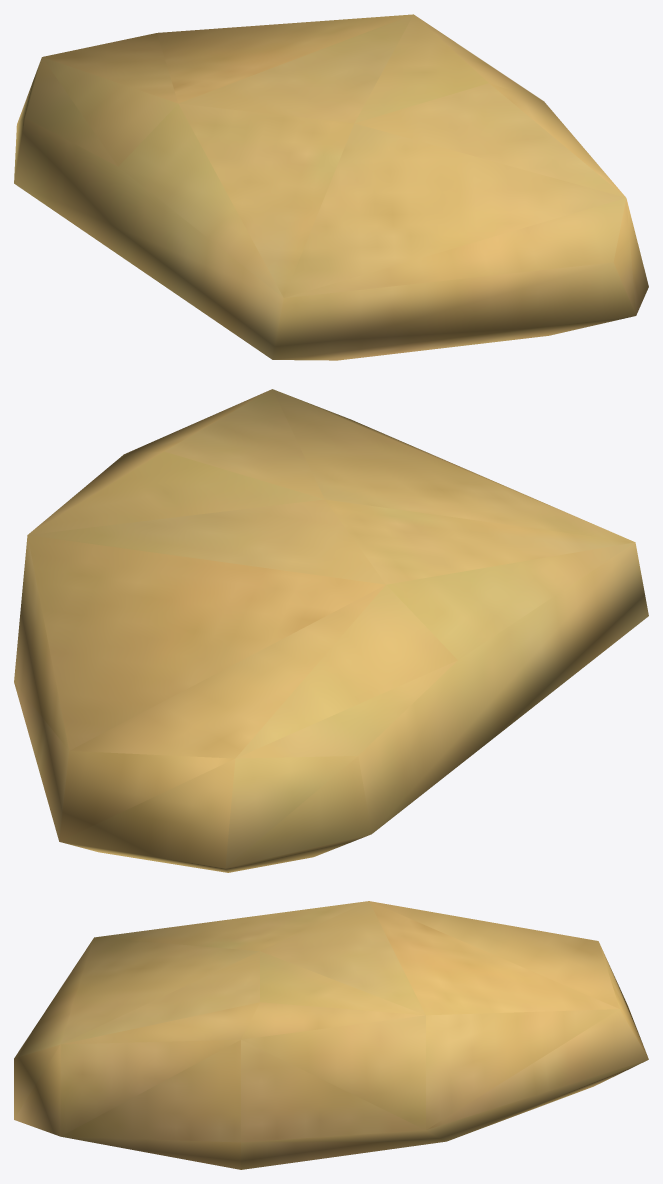
File: Boulder_Small_Brown.obj
The picture shows the model from 3 angles, top to bottom: view 1: azimuth 30°, elevation 25°; view 2: azimuth 150°, elevation 25°; view 3: azimuth 270°, elevation 25°; orthographic projection. The views are drawn at different scales.
Parts seen in each view (by area): view 1: Mesh1 Model; view 2: Mesh1 Model; view 3: Mesh1 Model.
Part boxes in pixels (<box>): Mesh1 Model: <box>14,14,648,360</box>; Mesh1 Model: <box>14,389,648,872</box>; Mesh1 Model: <box>14,901,648,1169</box>.
Size of the model in its own units: 9.97 by 4.04 by 16.32.
Materials: 1 (1 with a texture image).
